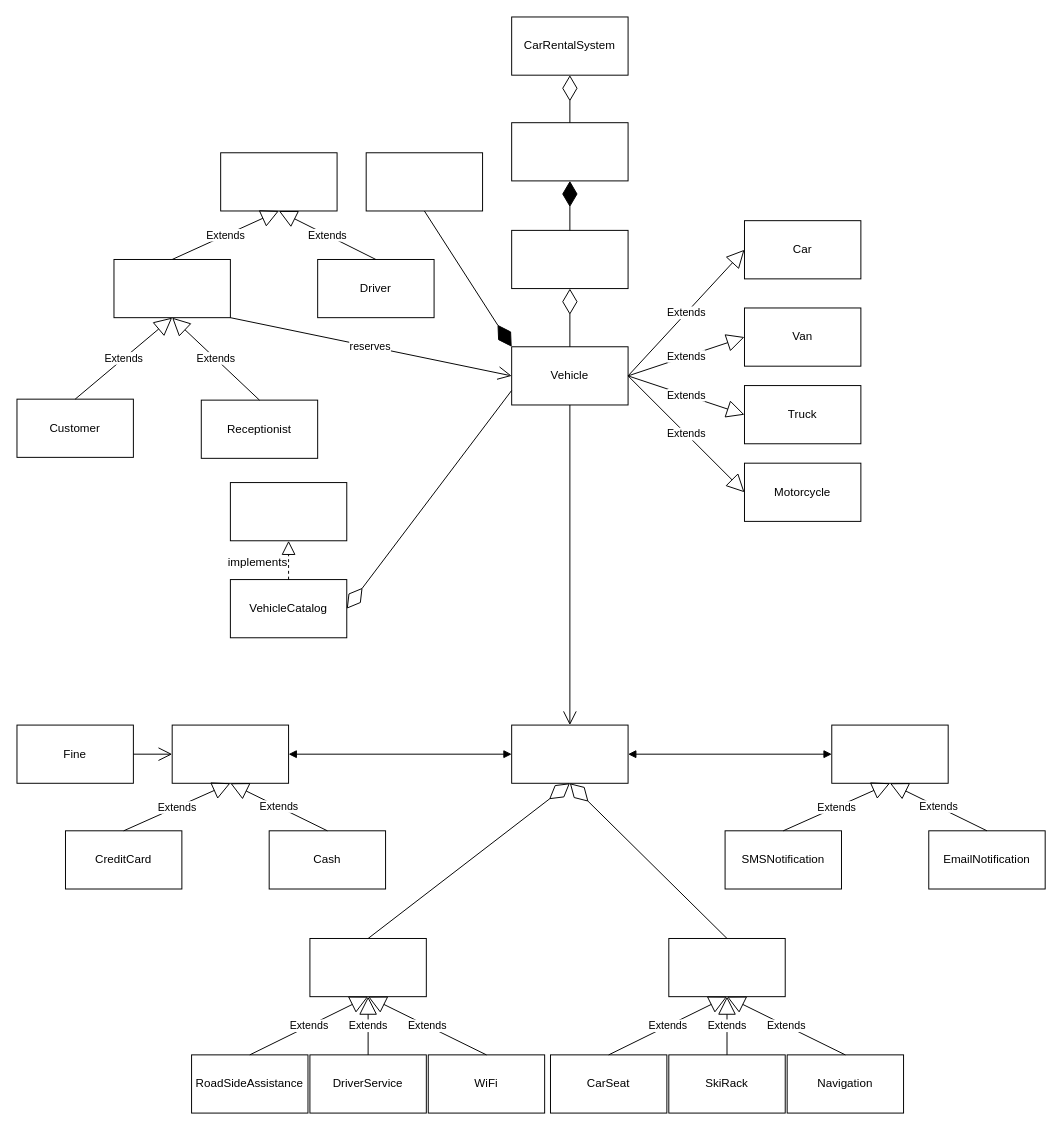
Image size: 1062x1130. Some labels were removed from this diagram. The shapes that lost their labels are listed below. From the top down, each one's centre as x and y in pixels, then its label:
At (569,151): "CarRentalBranch".
At (278,181): "Person".
At (424,181): "VehicleLog".
At (569,259): "ParkingStall".
At (171,288): "<<abstract>> Account".
At (288,511): "<<interface>> Search".
At (230,753): "<<abstract>> Payment".
At (569,753): "VehicleReservation".
At (889,753): "<<abstract>> Notification".
At (367,967): "<<abstract>> Service".
At (726,967): "<<abstract>> Equipment".
